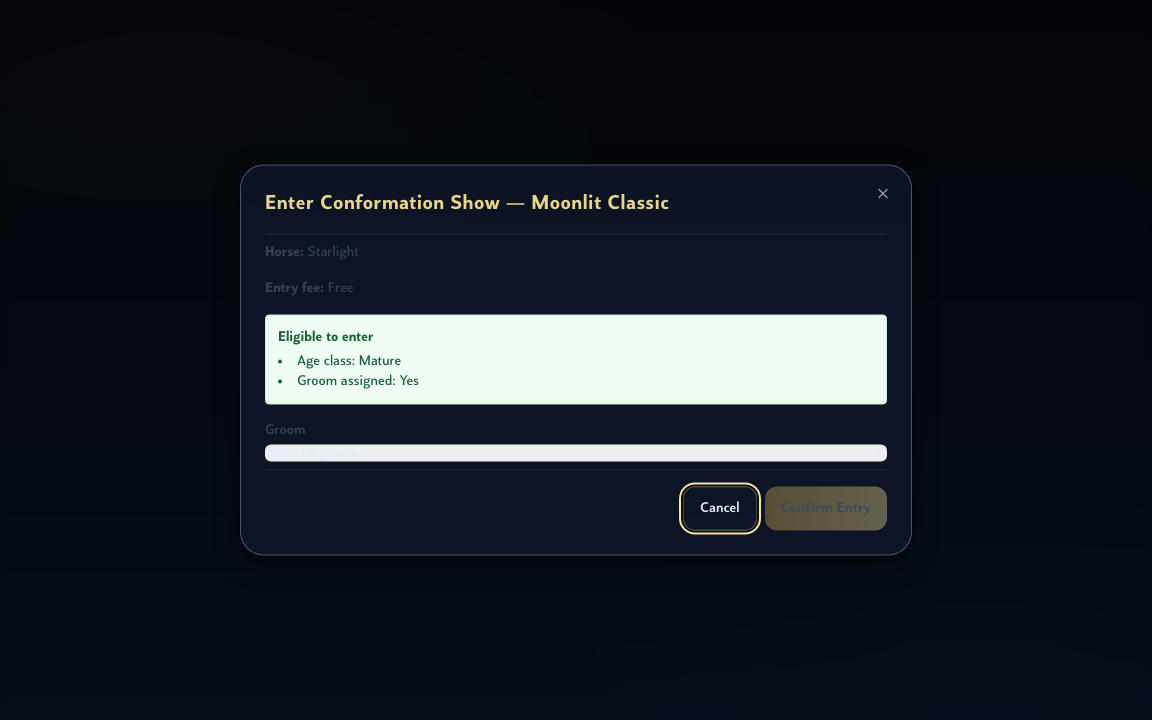
it: ConformationEntryModal — failed entry (Equoria-mr1kq) › shows mapped copy for a server fault
This screenshot has width=1152, height=720.
Select "Mara Quill (Unrated · Gentle)" in the dropdown with test id "conformation-groom-select" at point(576, 453), box x1=265 y1=444 x2=887 y2=462
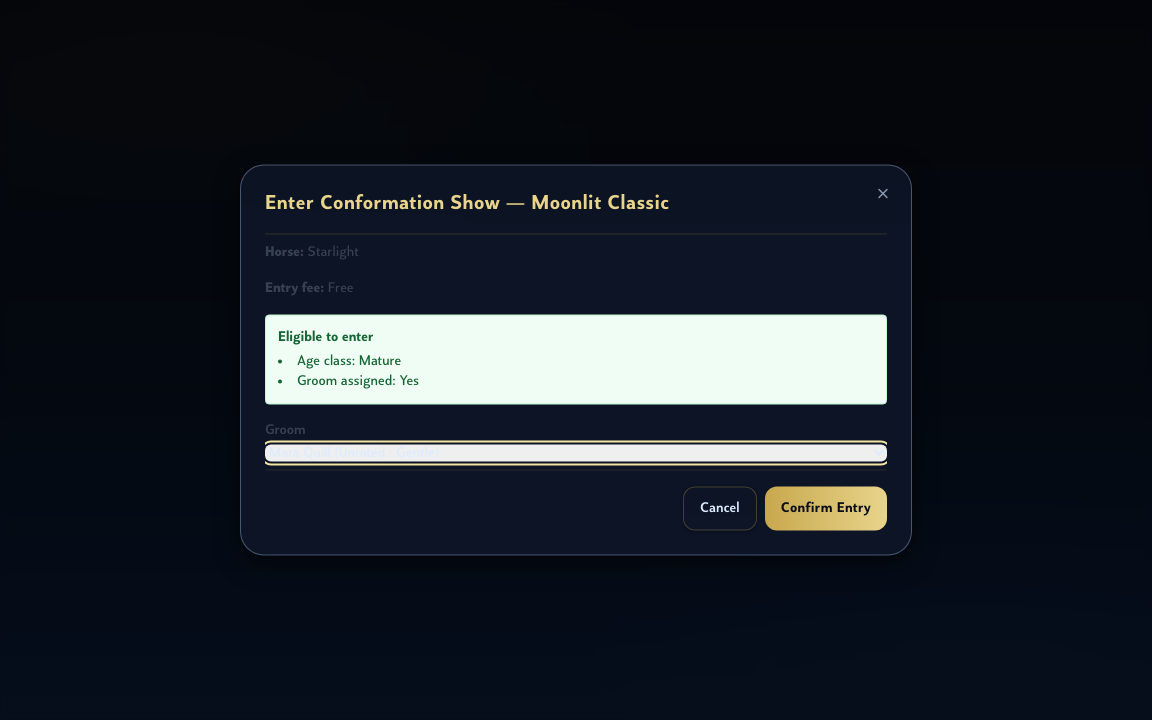
Click the button with test id "conformation-entry-submit" at point(826, 508), box x1=765 y1=486 x2=887 y2=530
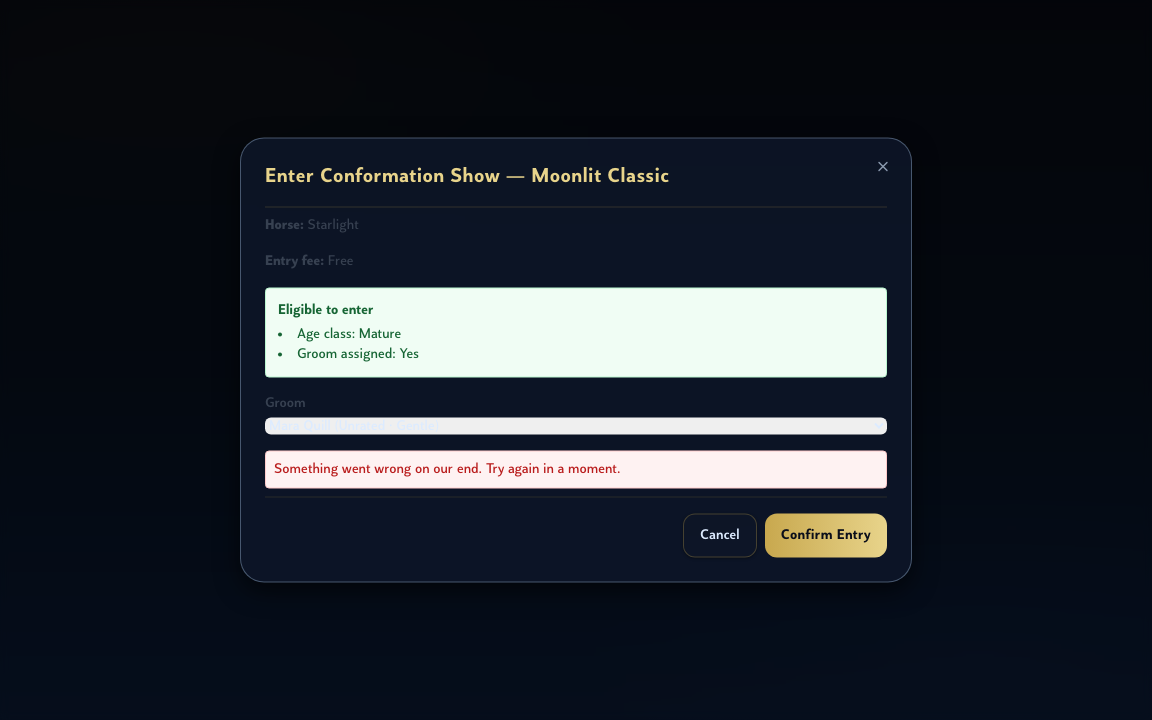
Expected: the text "Something went wrong on our end. Try again in a moment." is shown, x1=265 y1=450 x2=887 y2=488
